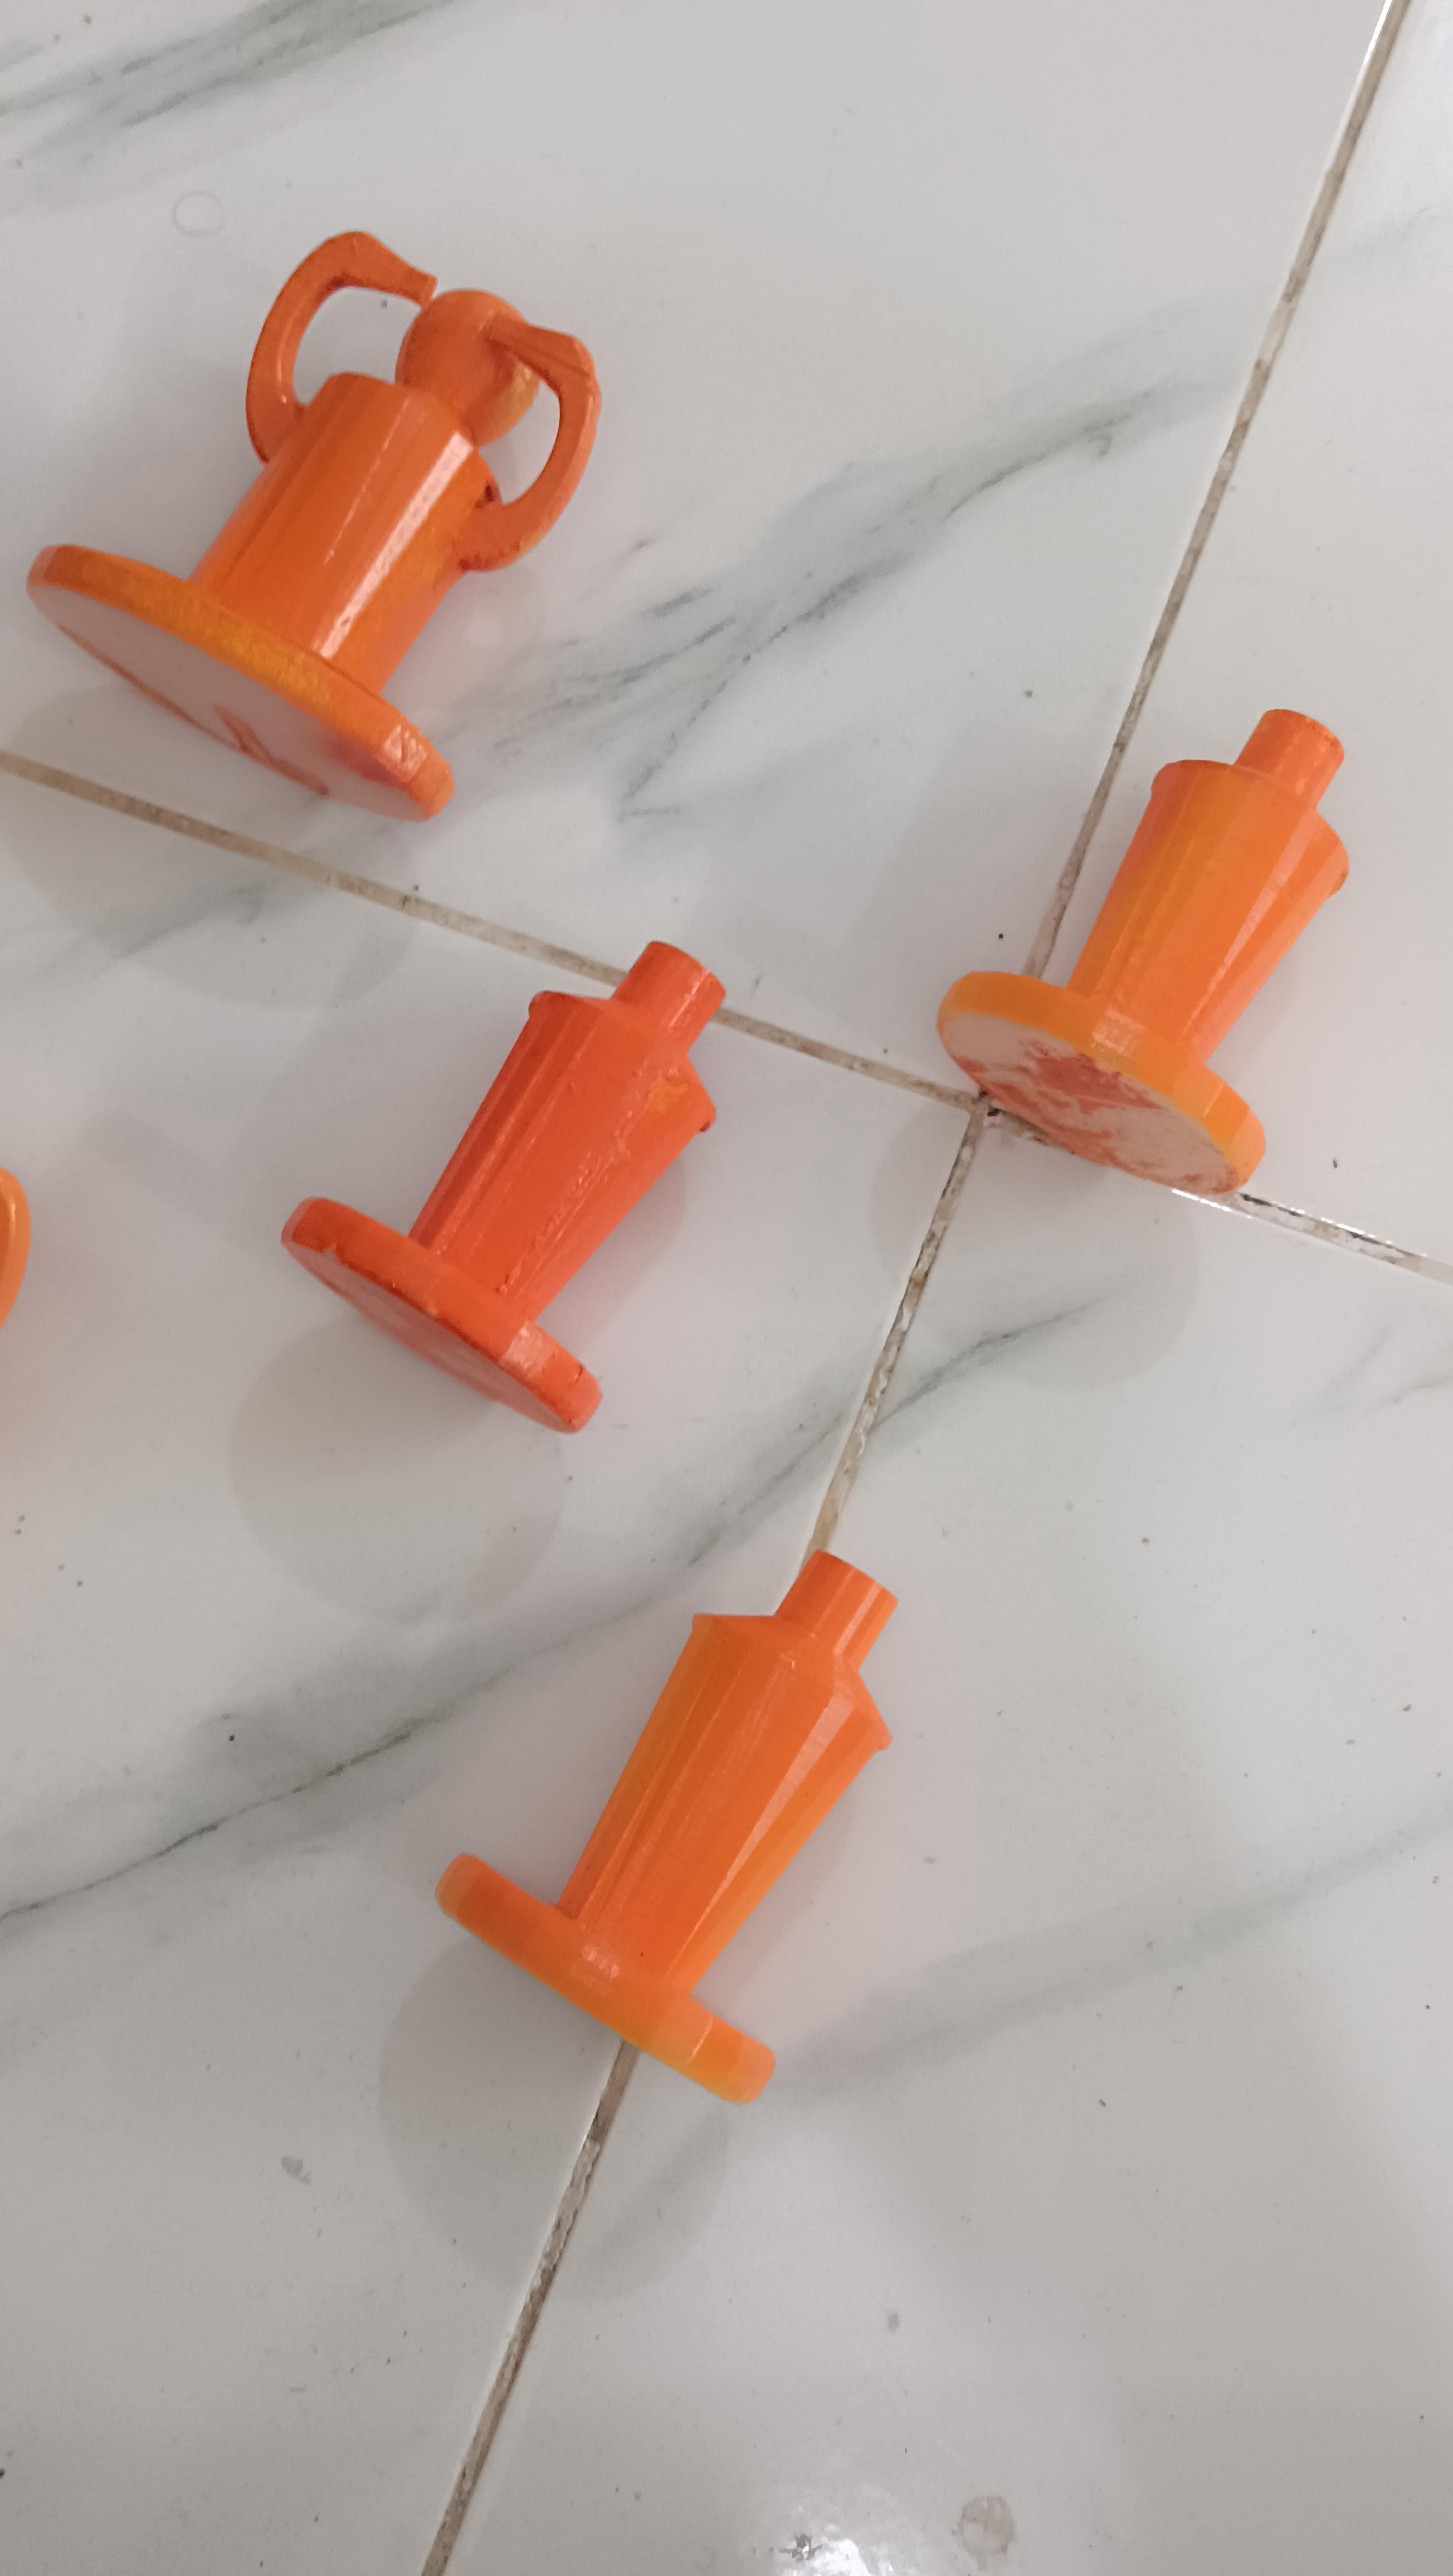dummy: (396, 1501, 969, 2128), (253, 905, 788, 1448), (935, 675, 1377, 1217)
real_person: (25, 134, 612, 833)
